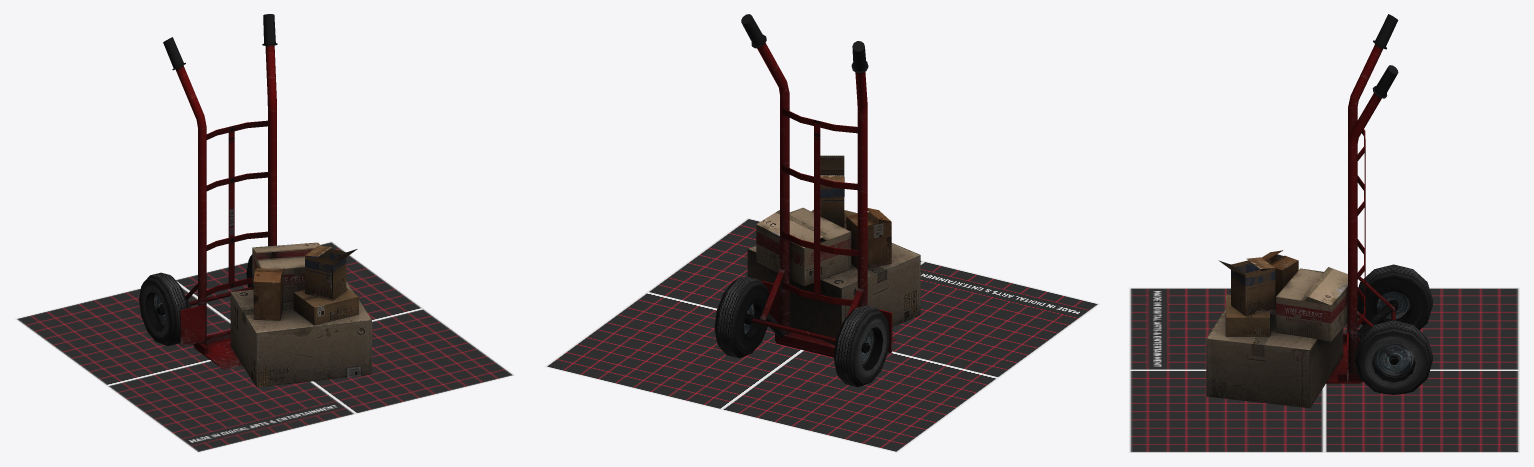
File: handtruck_and_boxes.glb
3 views of the same model, side by side, from view 1: azimuth 30°, elevation 25°; view 2: azimuth 150°, elevation 25°; view 3: azimuth 270°, elevation 25° (orthographic). The views are drawn at different scales.
Visible parts, largest first — view 1: floor_grid, M_prop_boxes, M_prop_steekwagen; view 2: floor_grid, M_prop_steekwagen, M_prop_boxes; view 3: floor_grid, M_prop_boxes, M_prop_steekwagen.
Boxes of the visible parts, left/top/right/bottom form: floor_grid: left=15, top=241, right=514, bottom=452; M_prop_boxes: left=230, top=242, right=371, bottom=387; M_prop_steekwagen: left=139, top=14, right=277, bottom=369; floor_grid: left=544, top=218, right=1099, bottom=452; M_prop_steekwagen: left=714, top=14, right=896, bottom=386; M_prop_boxes: left=747, top=155, right=920, bottom=344; floor_grid: left=1129, top=287, right=1519, bottom=452; M_prop_boxes: left=1206, top=250, right=1347, bottom=408; M_prop_steekwagen: left=1326, top=14, right=1432, bottom=394.
Size of the model in its own units: 200 by 184 by 200.
Materials: 3 (3 with a texture image).
